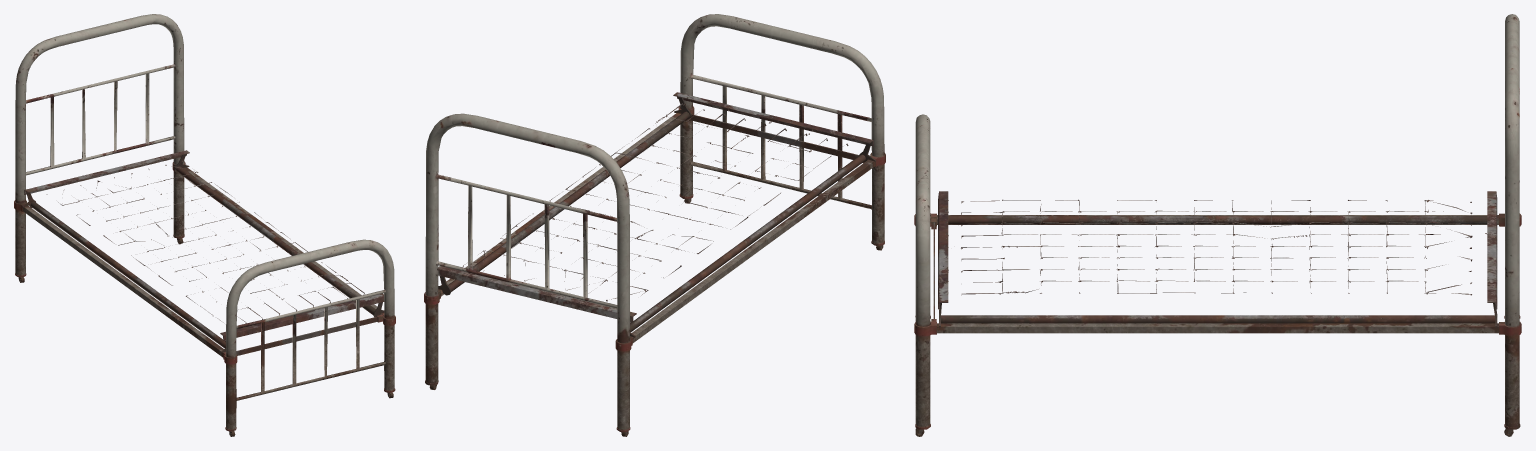
Rendered from old_bed_frame.glb.
The picture shows the model from 3 angles, left to right: view 1: azimuth 30°, elevation 25°; view 2: azimuth 150°, elevation 25°; view 3: azimuth 270°, elevation 25°; orthographic projection. The views are drawn at different scales.
Parts seen in each view (by area): view 1: old_bed_frame; view 2: old_bed_frame; view 3: old_bed_frame.
Part boxes in pixels (box(x1,y1,x2,y2)): old_bed_frame: box(14, 14, 395, 436); old_bed_frame: box(424, 14, 885, 436); old_bed_frame: box(914, 14, 1521, 436).
Bounding box in the file's own units: 0.9047 × 1.2 × 2.
Materials: 1 (1 with a texture image).
